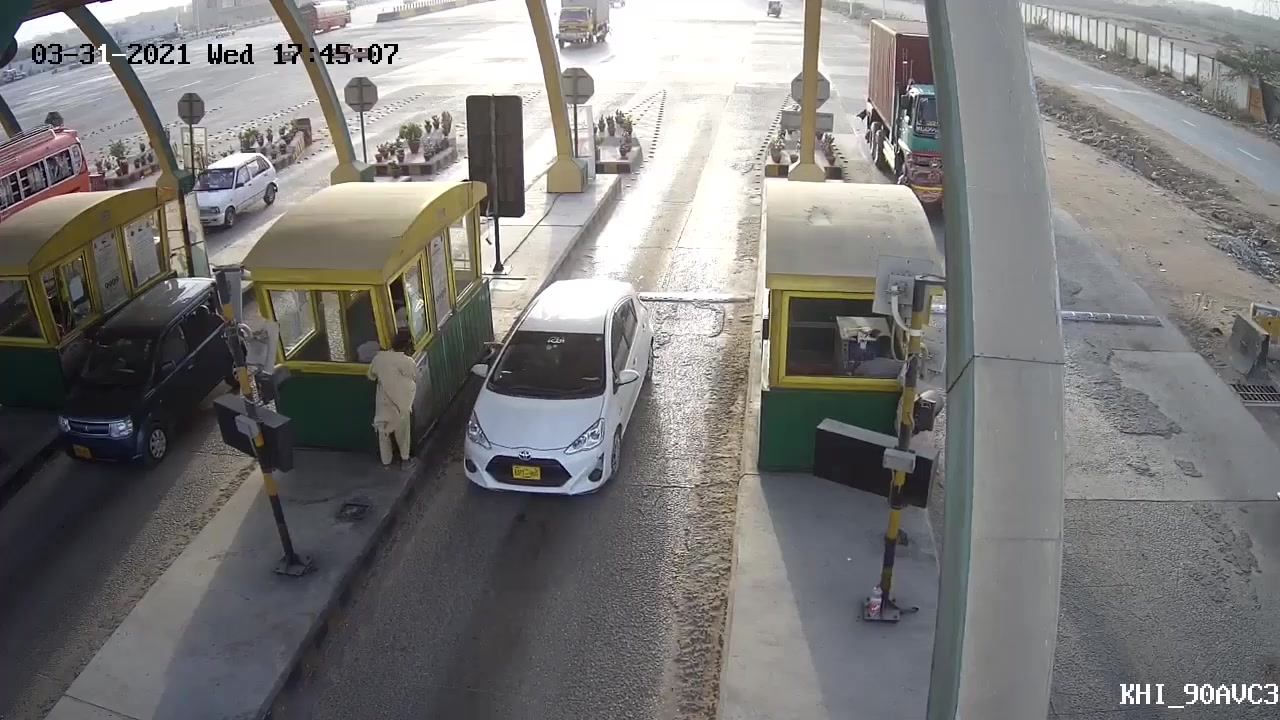F1: (448, 275, 647, 509)
